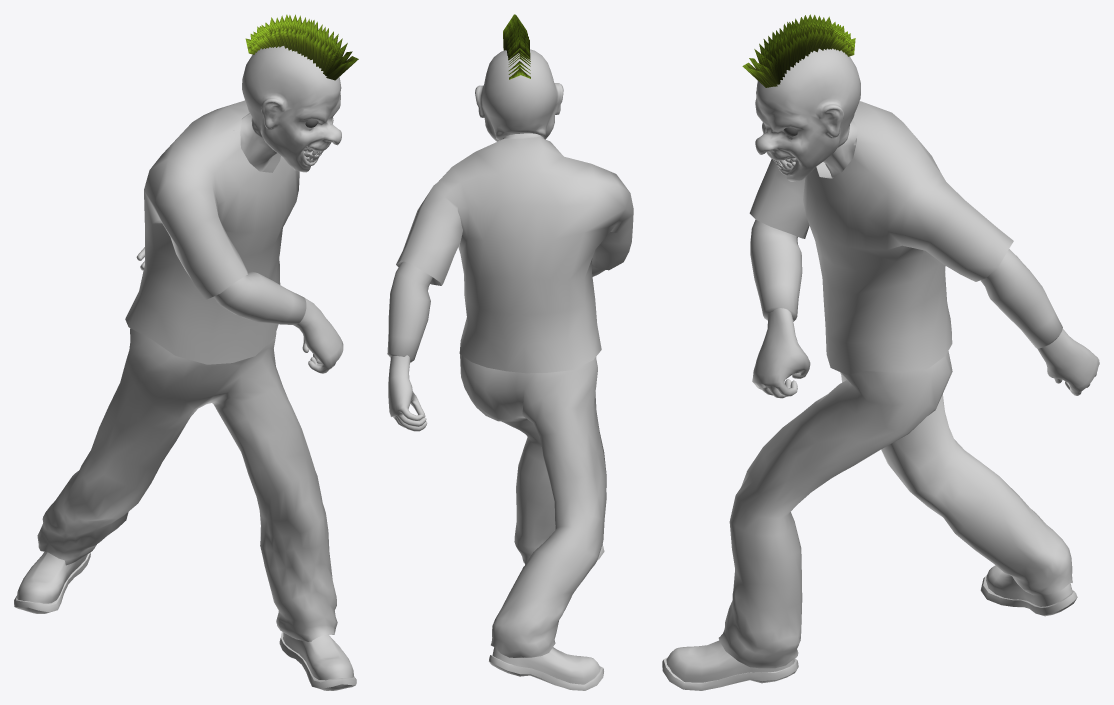
The model's file is Attack01 (42).obj.
The picture shows the model from 3 angles, left to right: view 1: azimuth 30°, elevation 25°; view 2: azimuth 150°, elevation 25°; view 3: azimuth 270°, elevation 25°; orthographic projection. The views are drawn at different scales.
Parts seen in each view (by area): view 1: pants, shirt, head, Hair, forearm_band_01, boots001, boots, hand_right, neck; view 2: shirt, pants, head, forearm_band_002, boots, hand_left, Hair; view 3: pants, shirt, head, forearm_band_002, forearm_band_01, Hair, boots001, hand_right, hand_left, boots, neck.
Boxes of the visible parts, bbox=[...] form: pants: bbox=[37, 328, 337, 641]; shirt: bbox=[125, 100, 299, 364]; head: bbox=[242, 46, 341, 172]; Hair: bbox=[245, 14, 358, 80]; forearm_band_01: bbox=[213, 271, 306, 324]; boots001: bbox=[279, 632, 356, 690]; boots: bbox=[14, 552, 90, 613]; hand_right: bbox=[293, 297, 343, 373]; neck: bbox=[233, 114, 276, 171]; shirt: bbox=[396, 137, 633, 373]; pants: bbox=[460, 354, 606, 657]; head: bbox=[475, 49, 563, 141]; forearm_band_002: bbox=[387, 261, 432, 362]; boots: bbox=[489, 647, 603, 690]; hand_left: bbox=[388, 355, 427, 431]; Hair: bbox=[503, 14, 530, 79]; pants: bbox=[718, 351, 1072, 668]; shirt: bbox=[749, 101, 1013, 374]; head: bbox=[755, 48, 860, 181]; forearm_band_002: bbox=[980, 249, 1062, 348]; forearm_band_01: bbox=[750, 219, 802, 321]; Hair: bbox=[742, 14, 855, 87]; boots001: bbox=[662, 640, 798, 690]; hand_right: bbox=[752, 308, 810, 398]; hand_left: bbox=[1037, 328, 1099, 395]; boots: bbox=[980, 565, 1077, 616]; neck: bbox=[823, 120, 857, 177].
Bounding box in the file's own units: 68.64 × 177 × 104.
